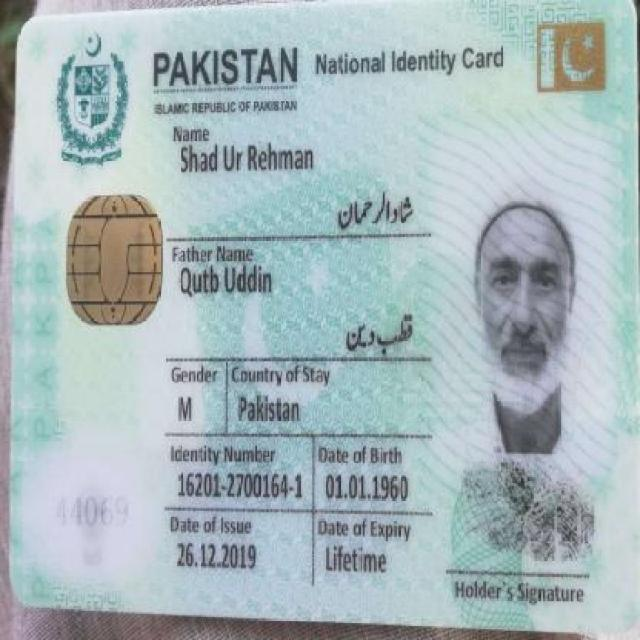Front: (16, 11, 624, 623)
